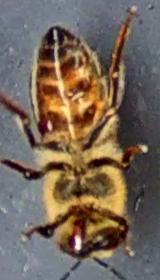varroa_mite: (30, 108, 60, 138)
